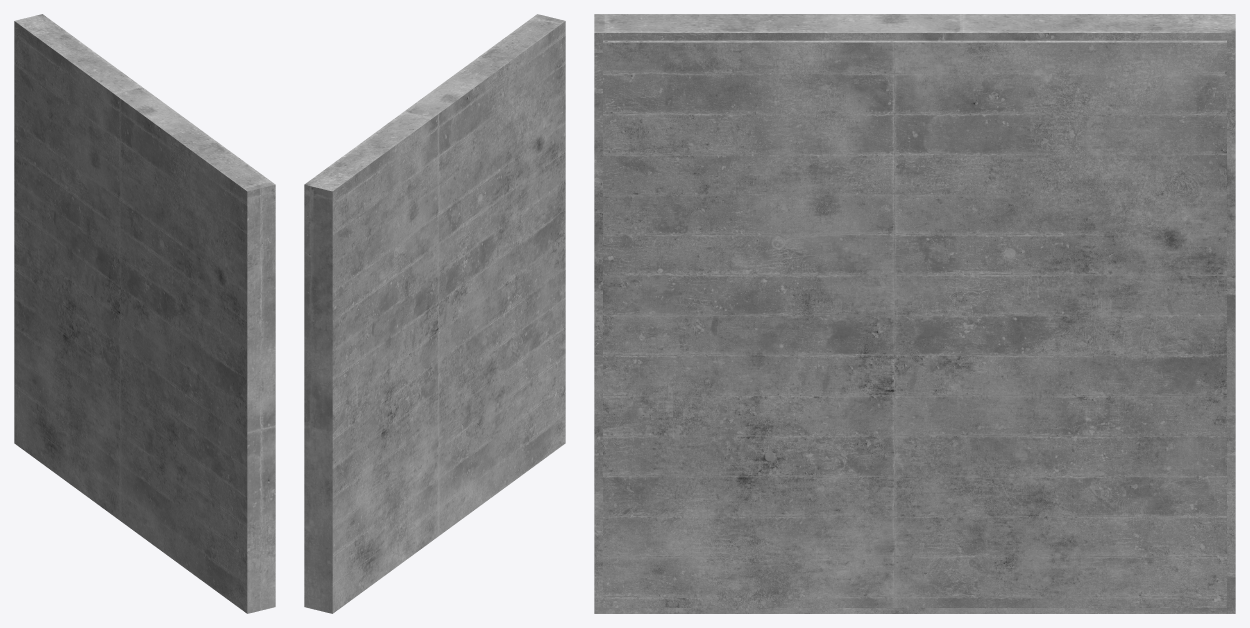
File: panel_house_002.fbx
3 renders of one model, left to right at view 1: azimuth 30°, elevation 25°; view 2: azimuth 150°, elevation 25°; view 3: azimuth 270°, elevation 25°, orthographic. The views are drawn at different scales.
Parts seen in each view (by area): view 1: pavel_006.001; view 2: pavel_006.001; view 3: pavel_006.001.
Boxes of the visible parts, <box> form: pavel_006.001: <box>14,14,275,613</box>; pavel_006.001: <box>304,14,565,613</box>; pavel_006.001: <box>594,14,1235,613</box>.
Bounding box in the file's own units: 30.88 × 400 × 400.
